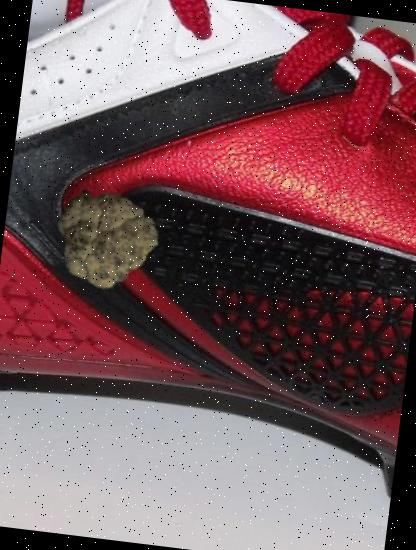Cauliflower: (46, 182, 162, 298)
